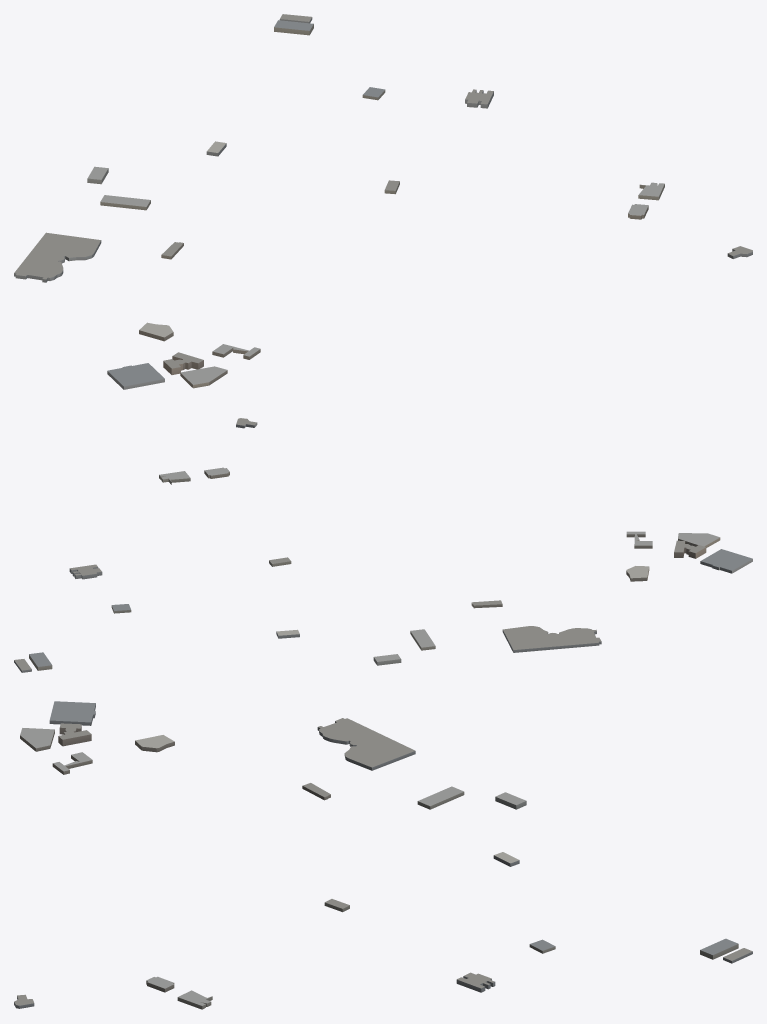
The model's file is bld_15_14.fbx.
The picture shows the model from 3 angles, top to bottom: view 1: azimuth 30°, elevation 25°; view 2: azimuth 150°, elevation 25°; view 3: azimuth 270°, elevation 25°; orthographic projection. The views are drawn at different scales.
Visible parts, largest first — view 1: bld_15_14_LOD0; view 2: bld_15_14_LOD0; view 3: bld_15_14_LOD0.
Part boxes in pixels (box(x1,y1,x2,y2)): bld_15_14_LOD0: box(14, 14, 752, 389); bld_15_14_LOD0: box(14, 418, 752, 672); bld_15_14_LOD0: box(14, 701, 752, 1009).
Size of what is drawn, in the model's own units: 1956 by 19.91 by 2003.
